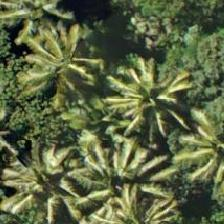coconut_tree: (8, 8, 98, 98), (106, 63, 196, 153), (0, 130, 76, 220), (152, 105, 223, 195), (99, 171, 189, 223)
